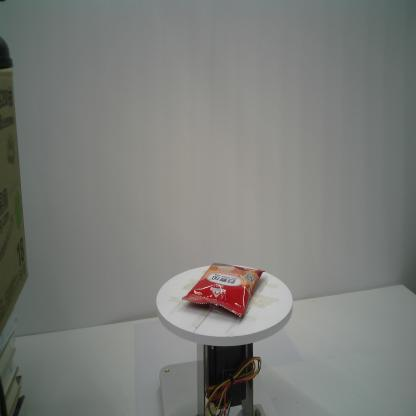Instant Drink: (182, 262, 266, 317)
